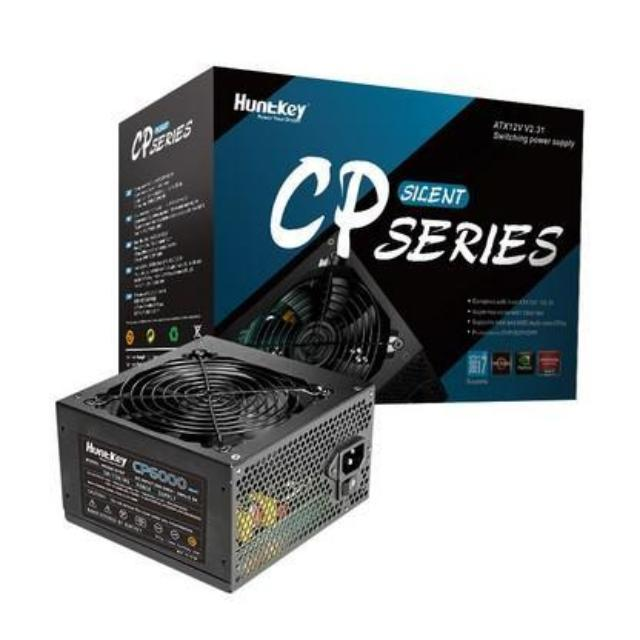PSU: (42, 331, 384, 597)
